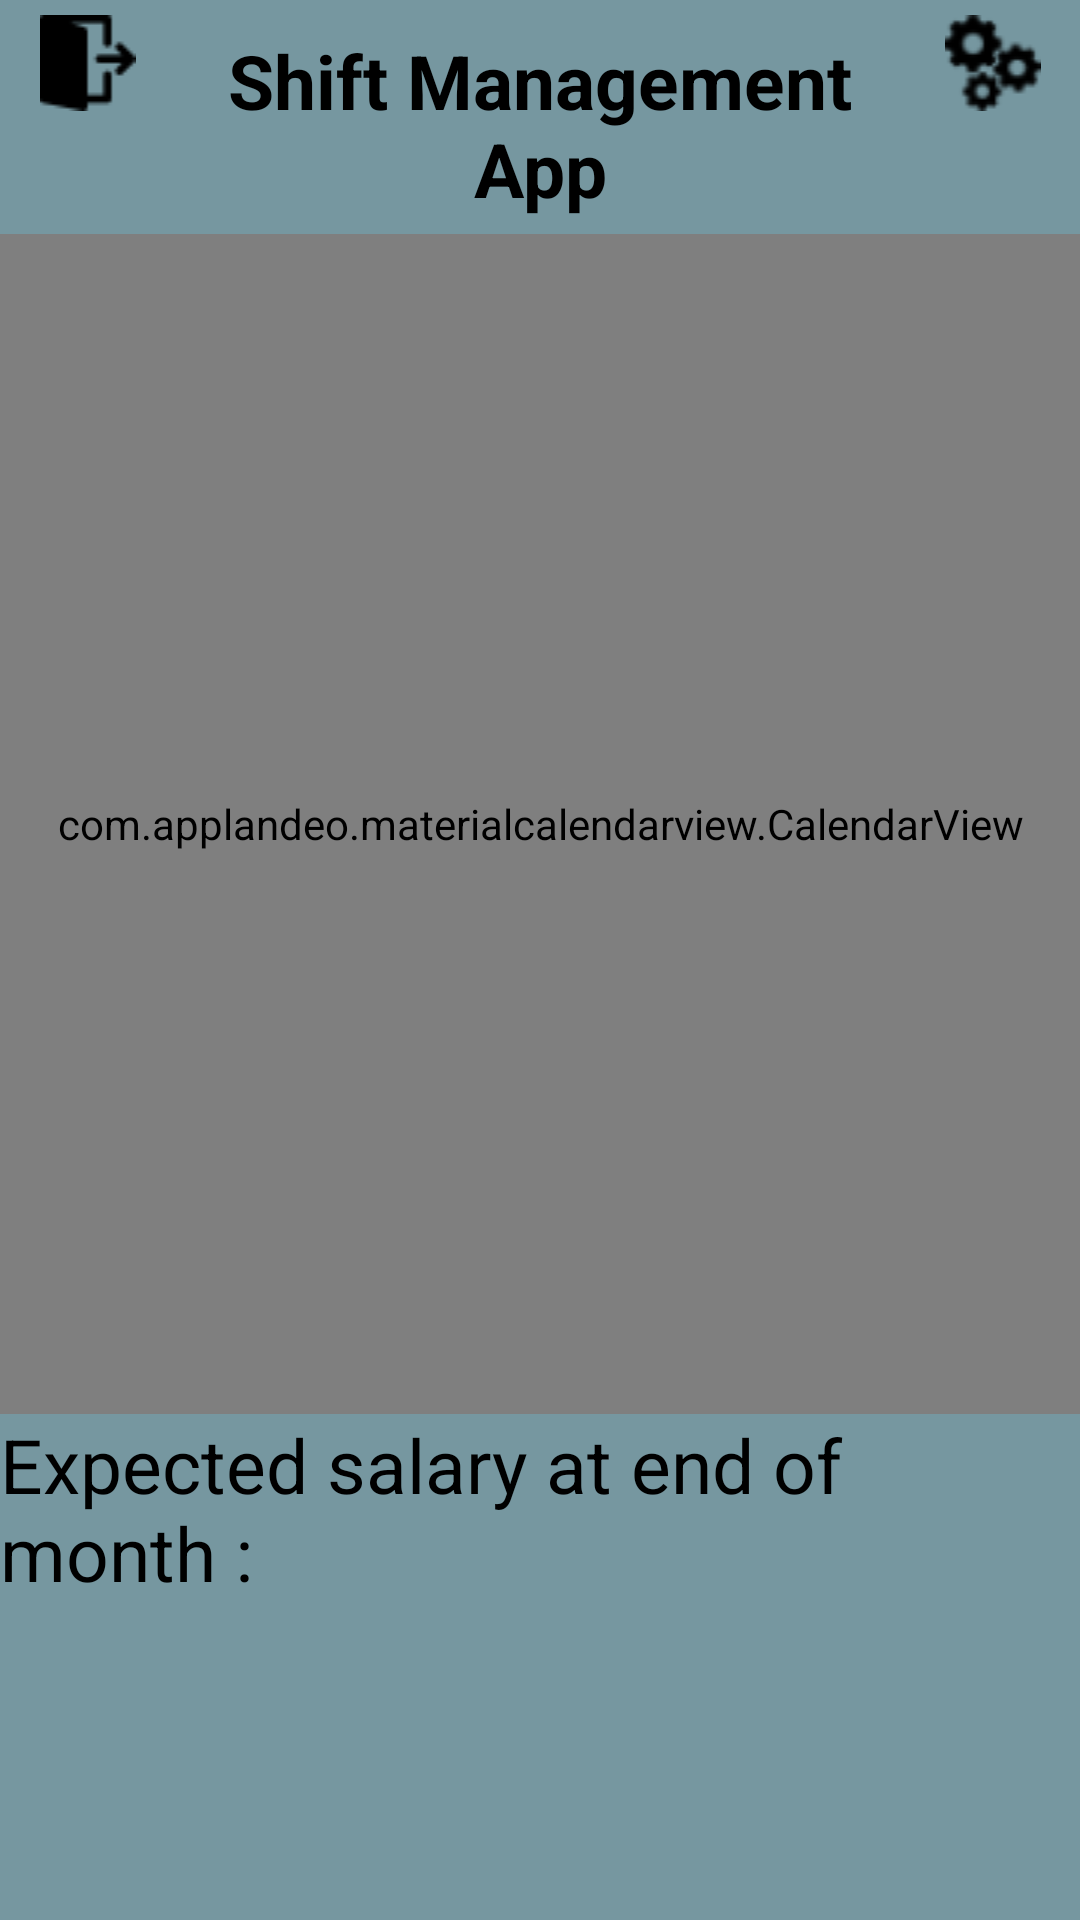

Icons on this 1080*1920 Android screen, each with its box as (x1, y1, x2, y2):
settings: (945, 15, 1041, 111)
